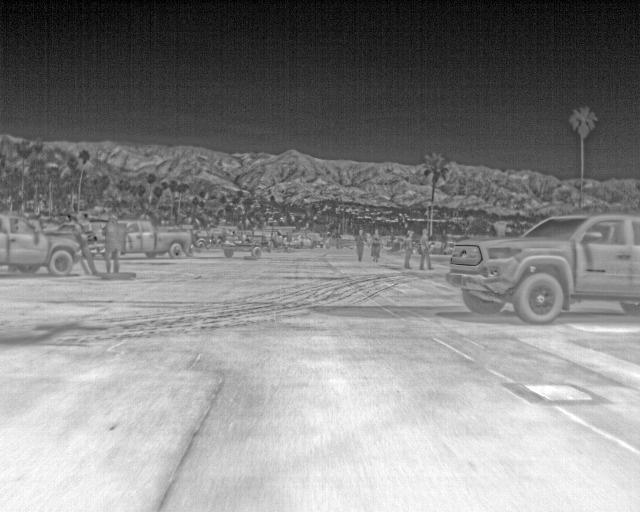bicycle: (445, 211, 638, 326), (1, 213, 83, 279), (118, 219, 194, 258)
empty: (101, 217, 125, 278), (78, 220, 100, 276), (417, 227, 434, 271), (400, 227, 416, 270), (369, 228, 385, 261), (354, 227, 366, 265)
